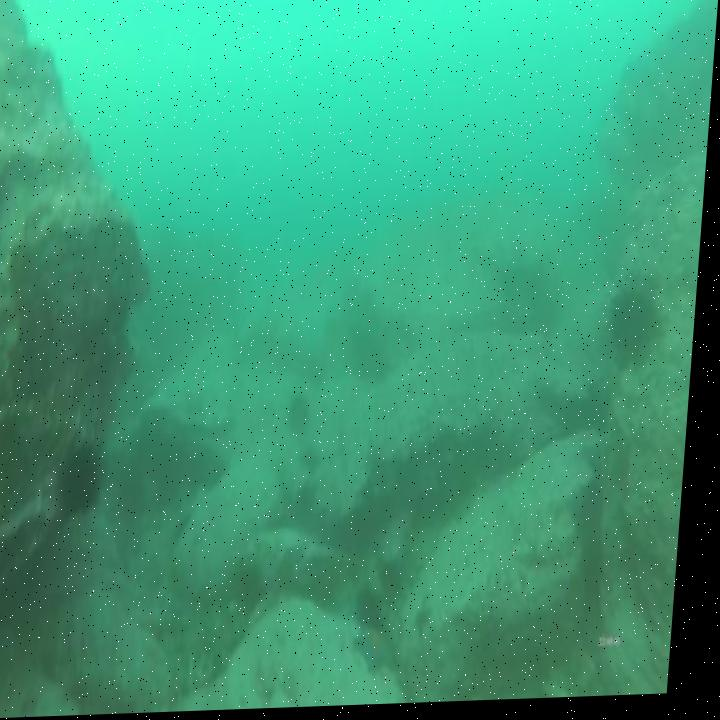echinus: (605, 284, 670, 380), (59, 437, 113, 524), (385, 552, 419, 607), (360, 583, 395, 636), (291, 390, 320, 443)
starfish: (361, 628, 412, 687)
